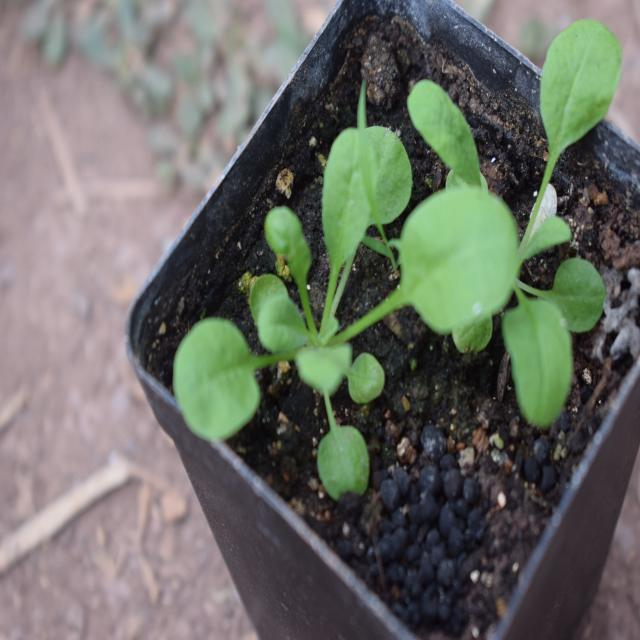Shepherd_Purse: (186, 136, 488, 476)
